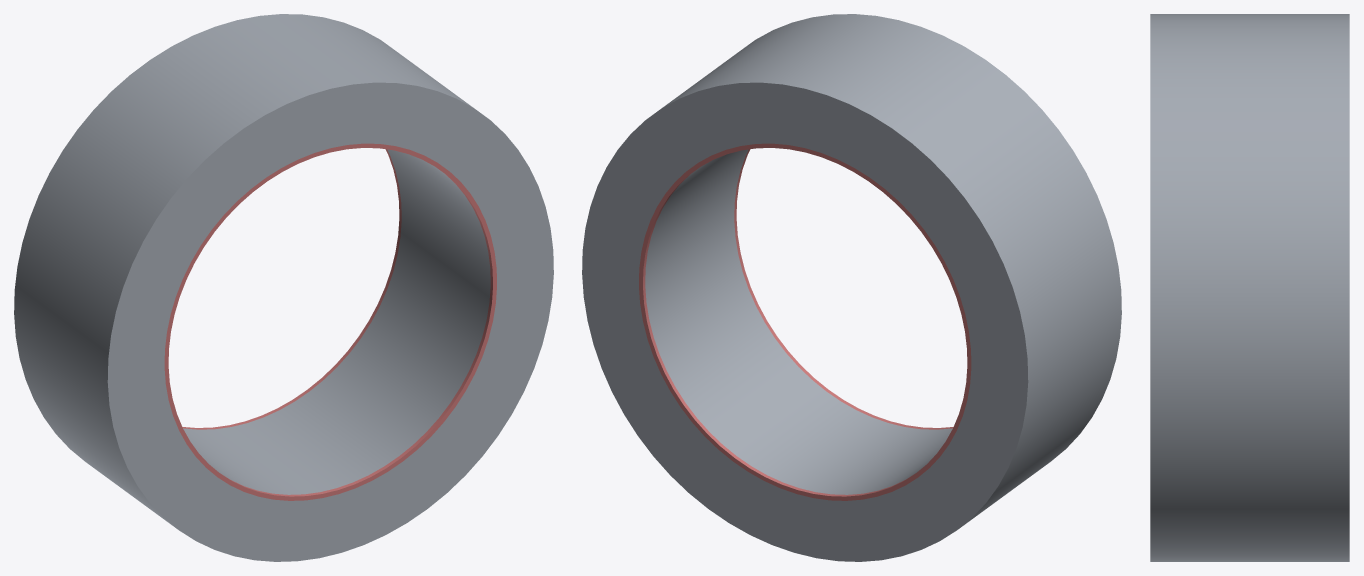
The model's file is step_03.glb.
3 renders of one model, left to right at view 1: azimuth 30°, elevation 25°; view 2: azimuth 150°, elevation 25°; view 3: azimuth 270°, elevation 25°, orthographic. The views are drawn at different scales.
Visible parts, largest first — view 1: part__Housing, removed__Housing; view 2: part__Housing, removed__Housing; view 3: part__Housing.
Part boxes in pixels (bbox=[...]): part__Housing: bbox=[14, 14, 553, 561]; removed__Housing: bbox=[164, 143, 496, 500]; part__Housing: bbox=[582, 14, 1121, 561]; removed__Housing: bbox=[639, 143, 971, 500]; part__Housing: bbox=[1150, 14, 1349, 561].
Bounding box in the file's own units: 110 × 110 × 40.
